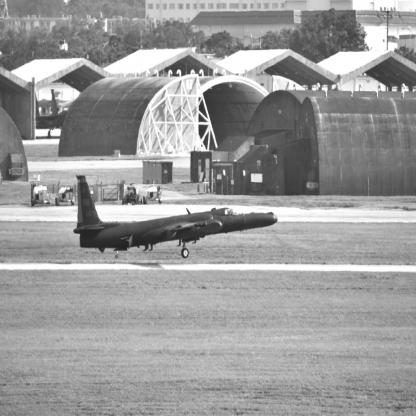F15: (36, 90, 70, 139)
U2: (74, 176, 279, 261)
